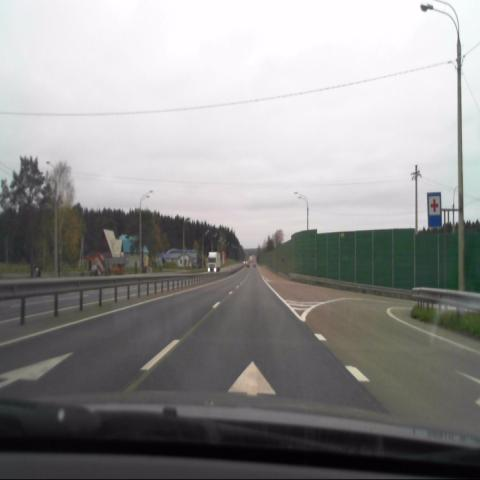7_1: (428, 192, 441, 231)
